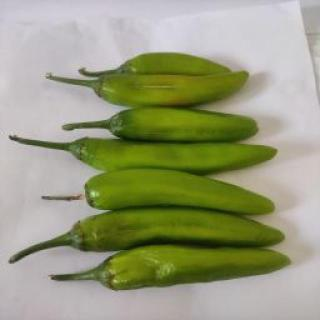Cabai Hijau: (47, 246, 295, 292), (2, 133, 285, 173), (40, 71, 272, 109)
